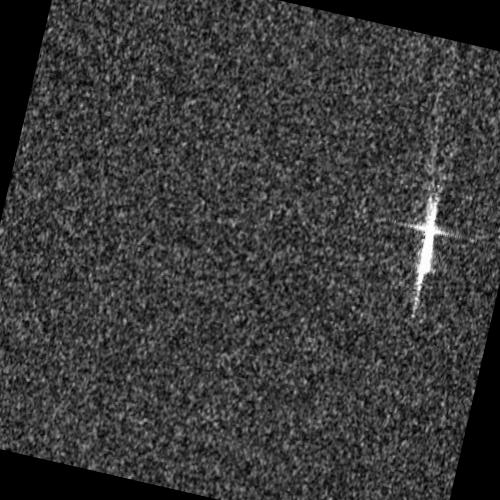ship: (417, 193, 439, 287)
